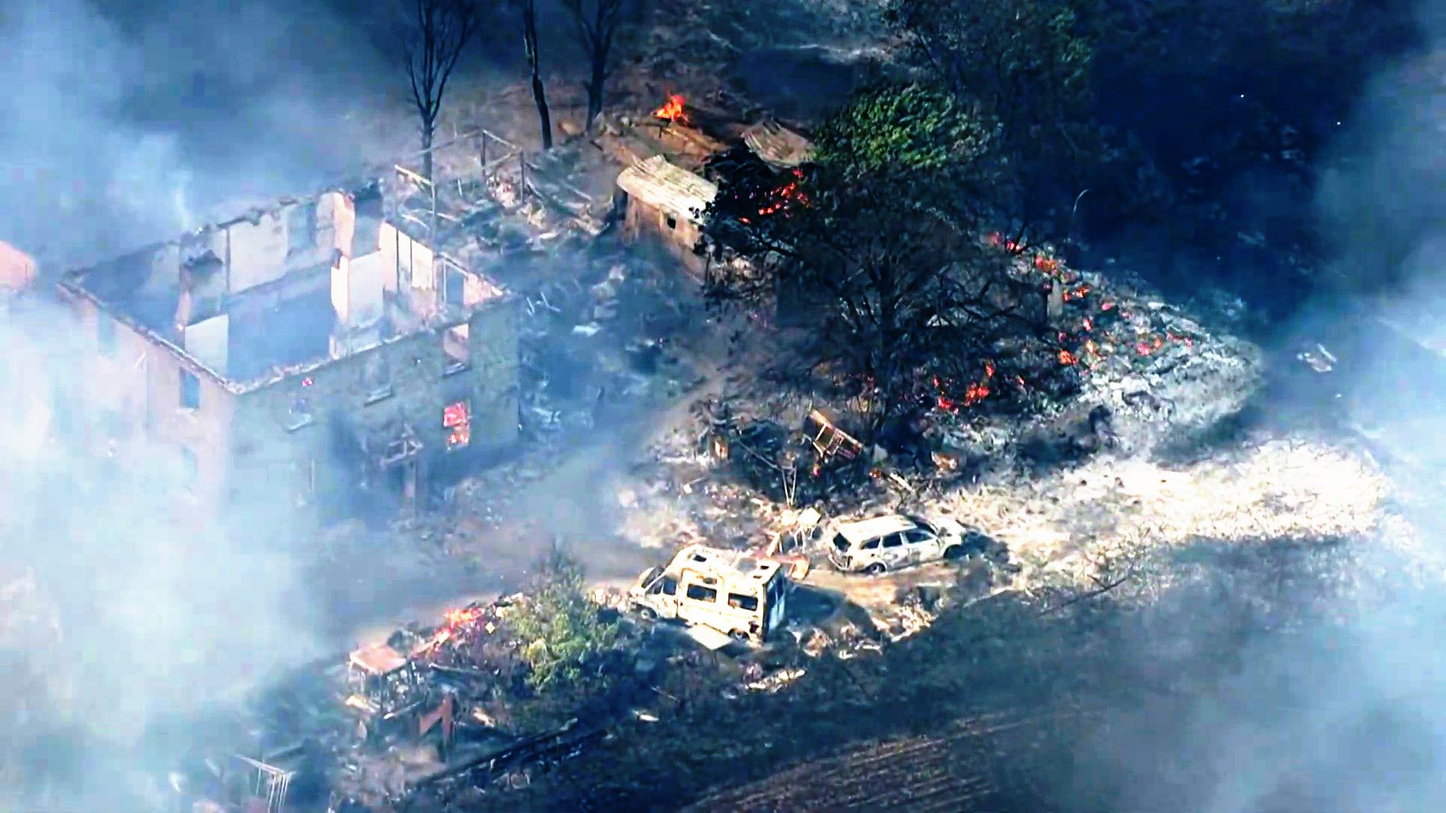smoke: (0, 394, 300, 813), (0, 0, 260, 196)
